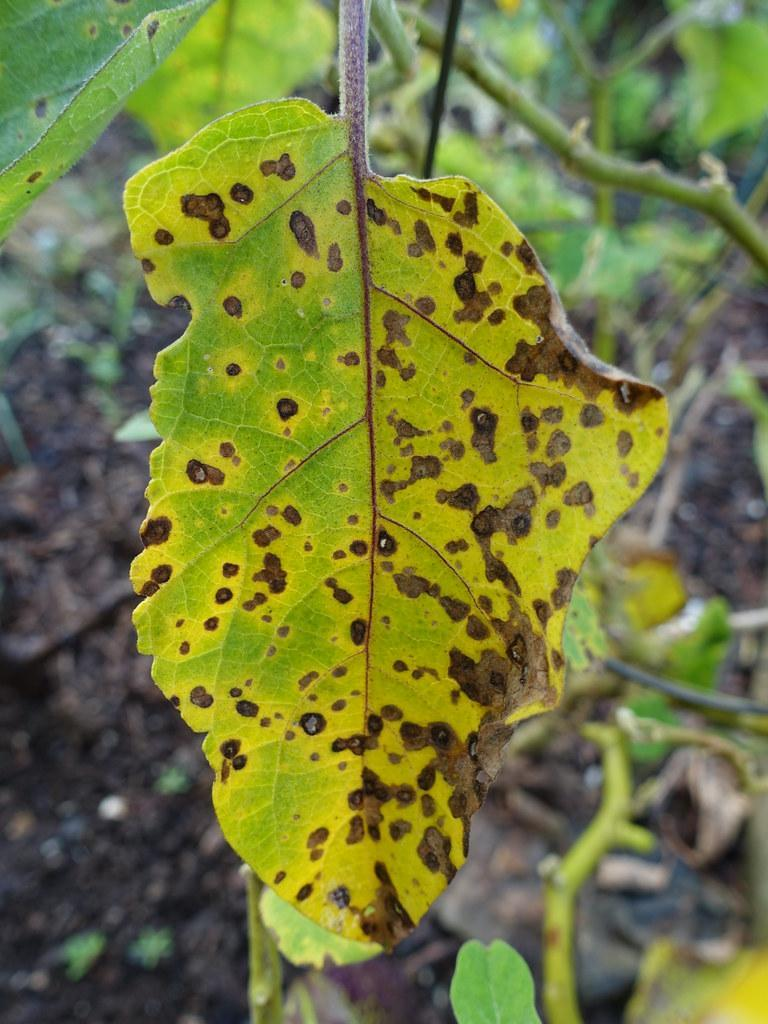black-spot: (187, 213, 362, 737)
